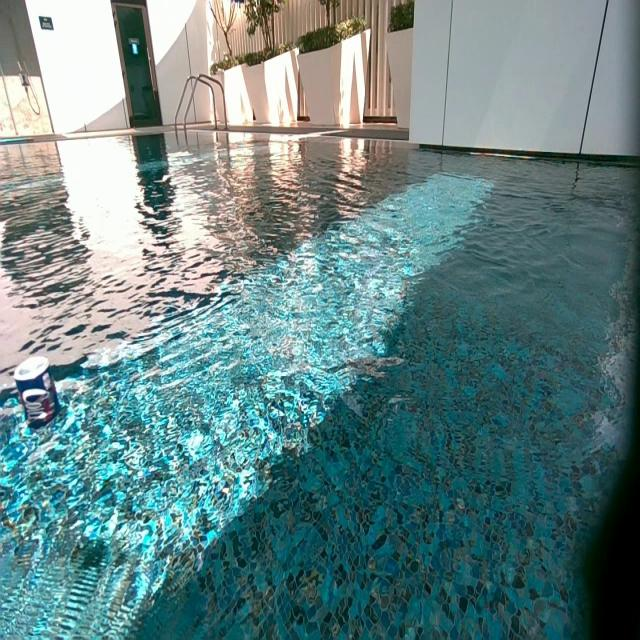Cans: (12, 352, 52, 408)
